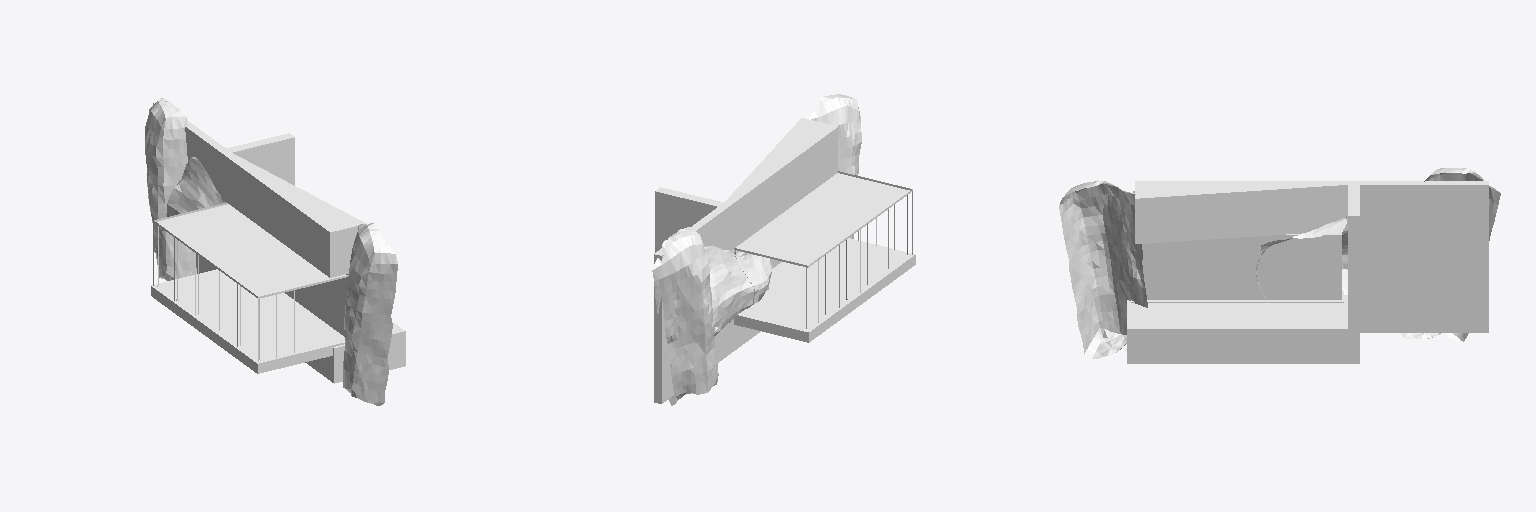
The model's file is flexo_house-01.obj.
The picture shows the model from 3 angles: view 1: azimuth 30°, elevation 25°; view 2: azimuth 150°, elevation 25°; view 3: azimuth 270°, elevation 25°; orthographic projection.
Visible parts, largest first — view 1: flexo_house-01.obj; view 2: flexo_house-01.obj; view 3: flexo_house-01.obj.
Boxes of the visible parts, x1=… form: flexo_house-01.obj: x1=145, y1=98, x2=405, y2=405; flexo_house-01.obj: x1=652, y1=94, x2=915, y2=405; flexo_house-01.obj: x1=1059, y1=168, x2=1500, y2=363.
Size of the model in its own units: 7.39 by 8.55 by 19.34.